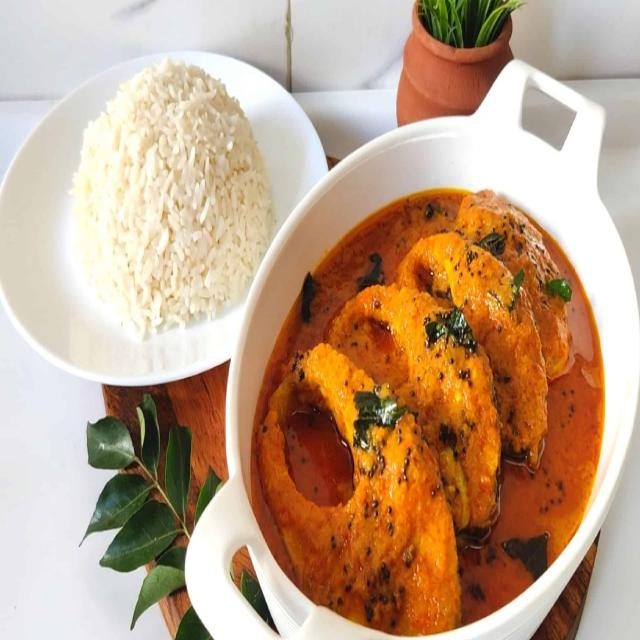FISH CURRY: (251, 191, 603, 635)
RICE: (71, 59, 275, 335)
